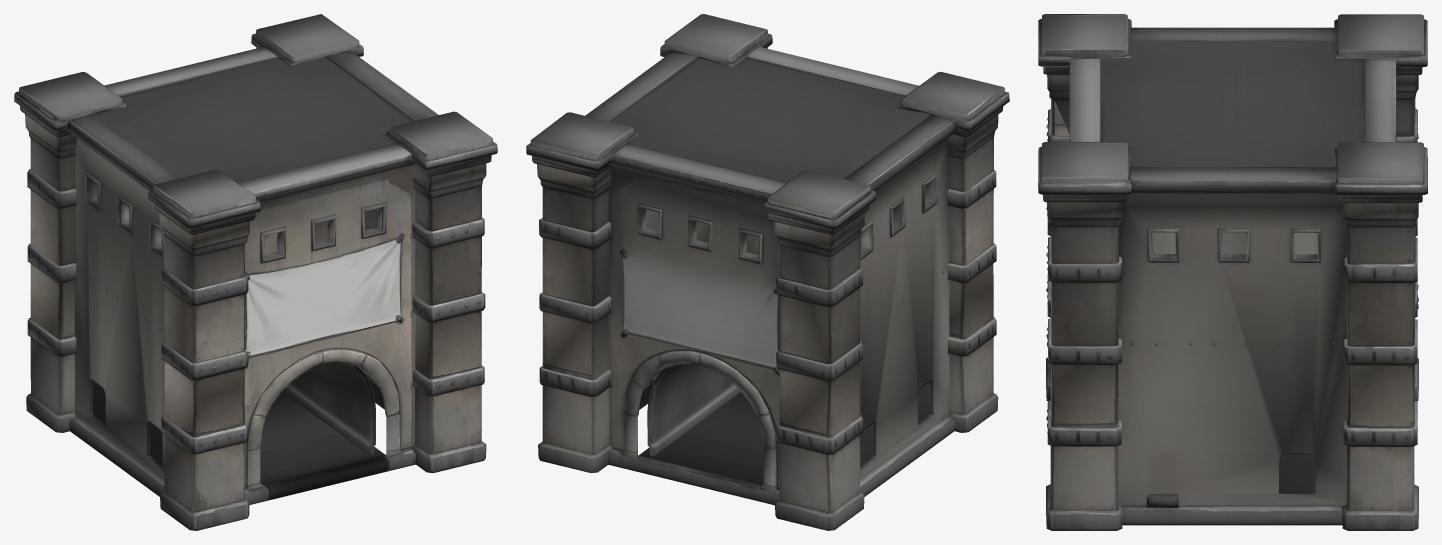
Rendered from facade_bay.glb.
The picture shows the model from 3 angles, left to right: view 1: azimuth 30°, elevation 25°; view 2: azimuth 150°, elevation 25°; view 3: azimuth 270°, elevation 25°; orthographic projection. The views are drawn at different scales.
Parts seen in each view (by area): view 1: facade_bay; view 2: facade_bay; view 3: facade_bay.
Boxes of the visible parts, x1=… form: facade_bay: x1=14, y1=14, x2=497, y2=530; facade_bay: x1=526, y1=14, x2=1009, y2=530; facade_bay: x1=1038, y1=14, x2=1427, y2=530.
Bounding box in the file's own units: 0.9998 × 0.9887 × 0.9832.
Materials: 1 (1 with a texture image).
